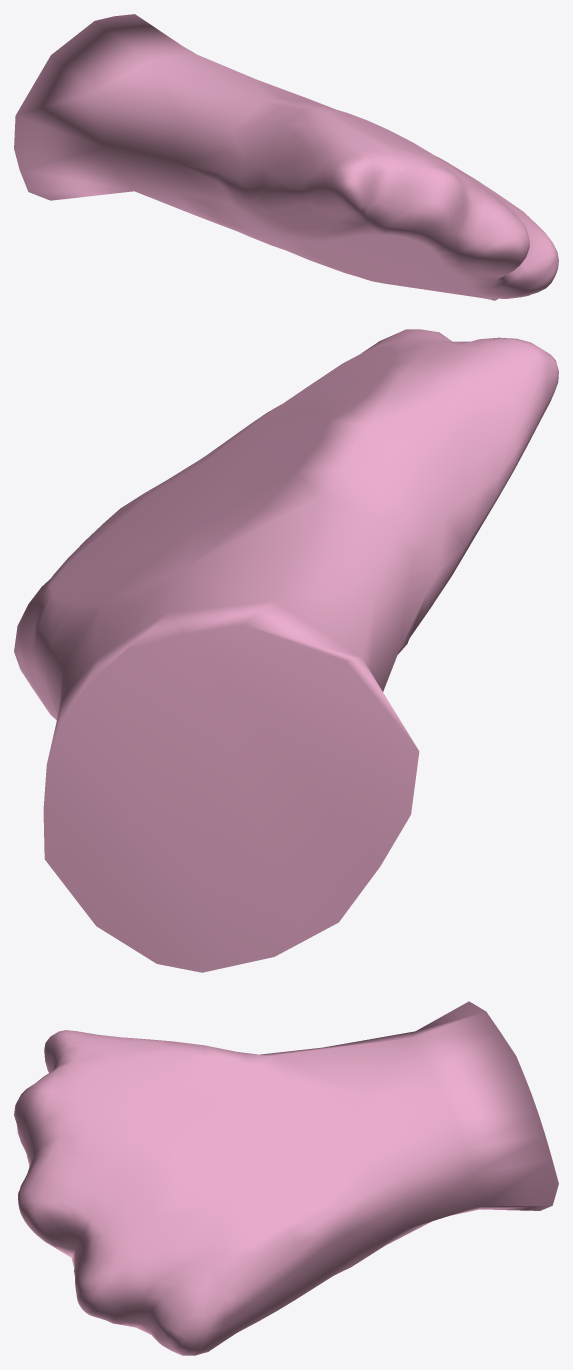
The model's file is left_hand.fbx.
3 renders of one model, top to bottom at view 1: azimuth 30°, elevation 25°; view 2: azimuth 150°, elevation 25°; view 3: azimuth 270°, elevation 25°, orthographic. The views are drawn at different scales.
Parts seen in each view (by area): view 1: left_hand; view 2: left_hand; view 3: left_hand.
Boxes of the visible parts, x1=… form: left_hand: x1=14, y1=14, x2=558, y2=300; left_hand: x1=14, y1=329, x2=558, y2=972; left_hand: x1=14, y1=1001, x2=558, y2=1355.
Bounding box in the file's own units: 12.11 × 7.1 × 15.41.
